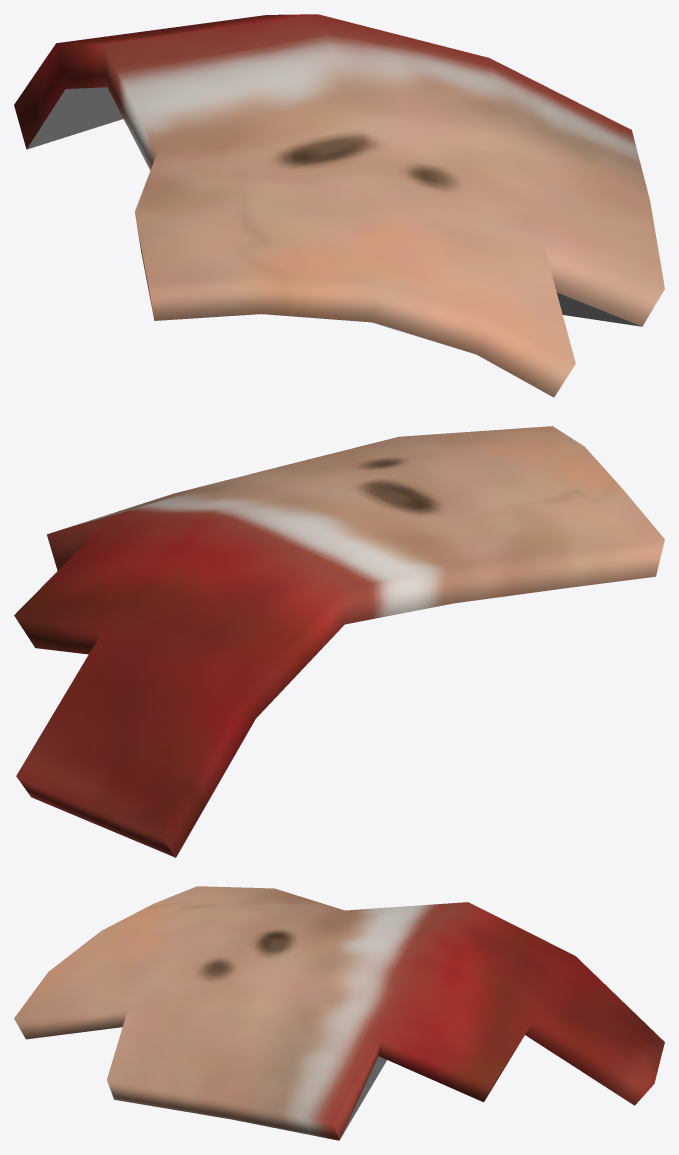
Rendered from gnome_lvl1_shatter_01.fbx.
The picture shows the model from 3 angles, top to bottom: view 1: azimuth 30°, elevation 25°; view 2: azimuth 150°, elevation 25°; view 3: azimuth 270°, elevation 25°; orthographic projection. The views are drawn at different scales.
Parts seen in each view (by area): view 1: shatter01; view 2: shatter01; view 3: shatter01.
Boxes of the visible parts, x1=… form: shatter01: x1=14, y1=14, x2=664, y2=397; shatter01: x1=14, y1=426, x2=664, y2=857; shatter01: x1=14, y1=886, x2=664, y2=1140.
Bounding box in the file's own units: 3.21 × 1.17 × 4.59.
